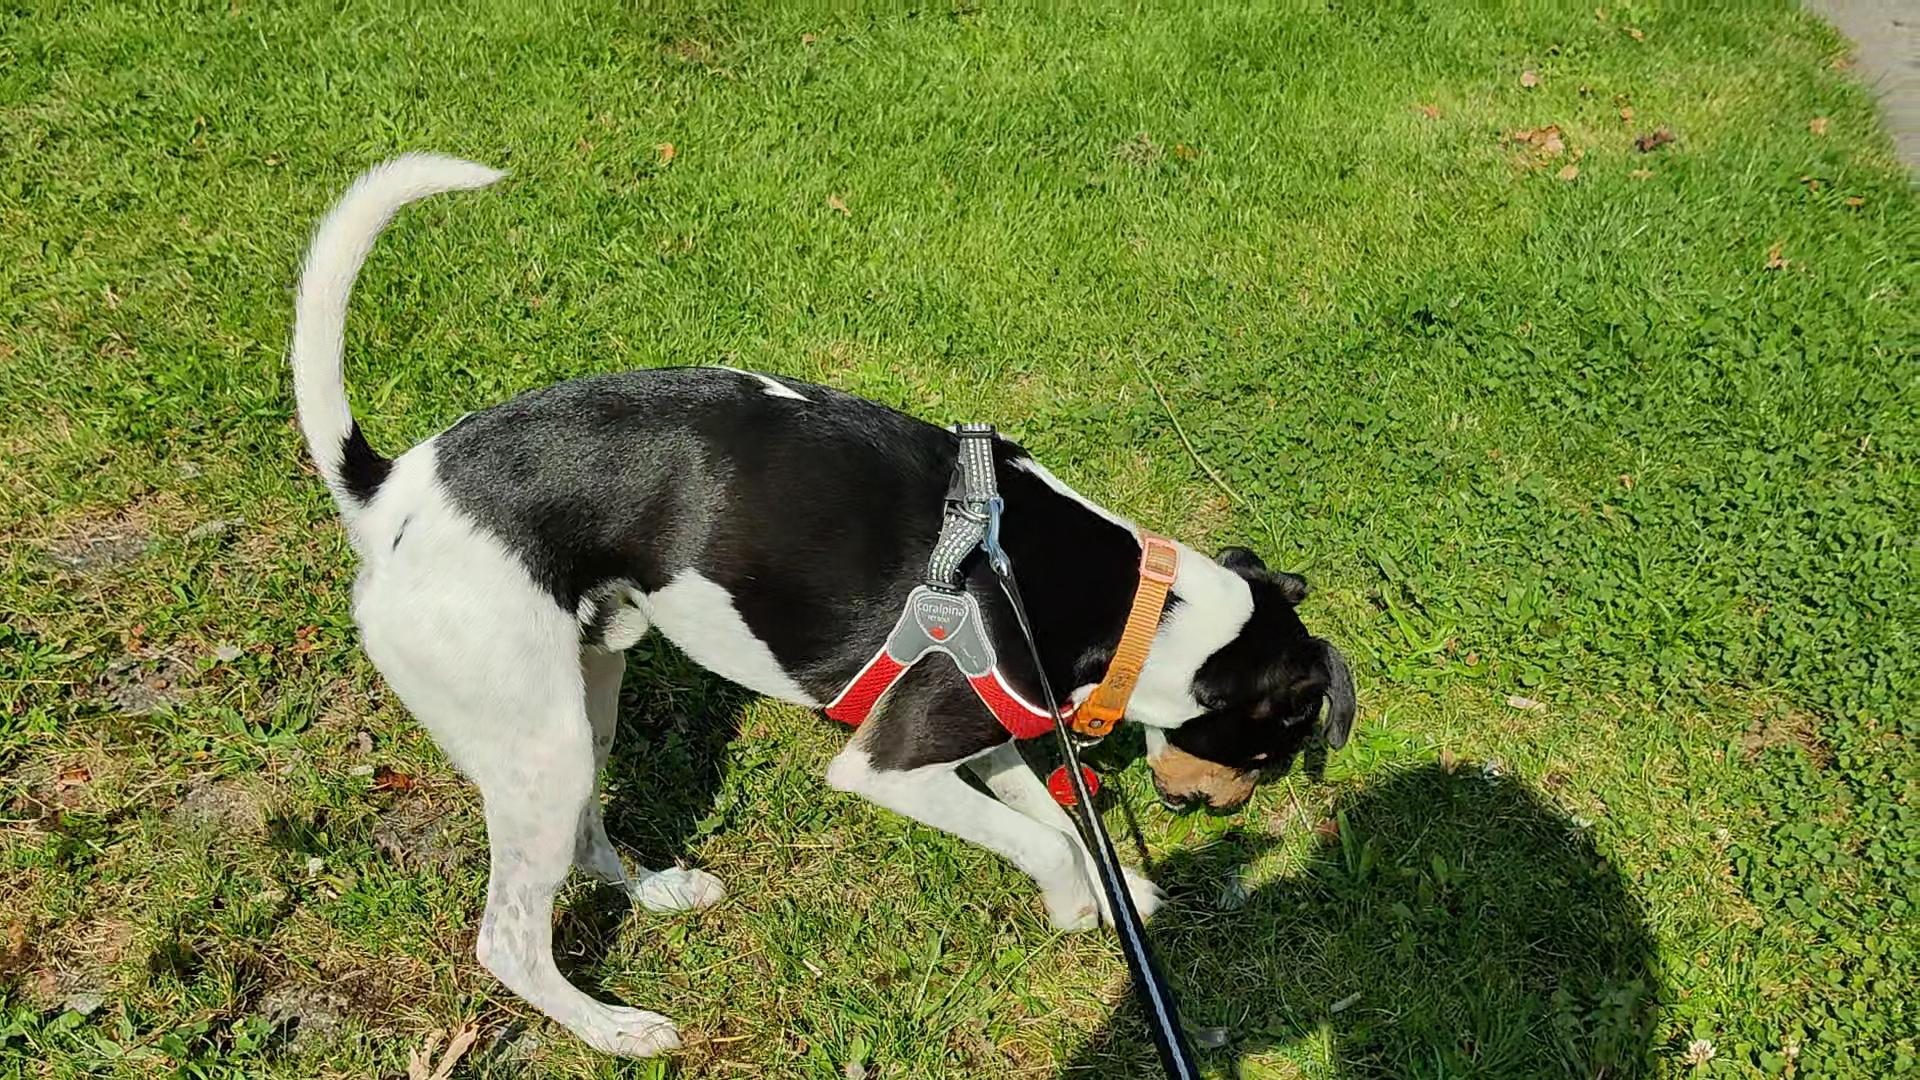Dog: (280, 145, 1364, 1063)
